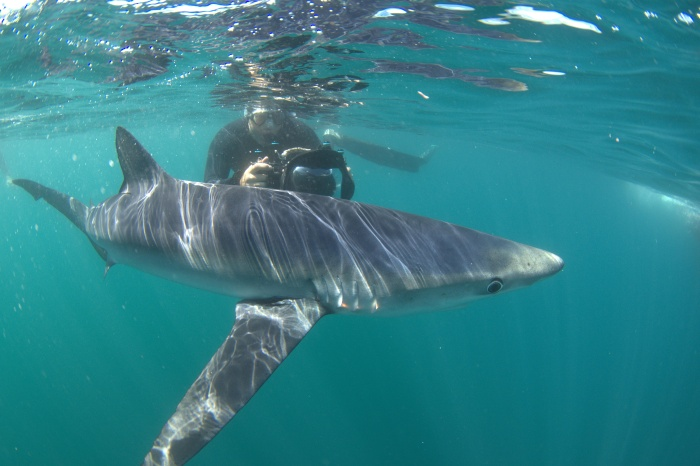Azul: (1, 122, 591, 461)
